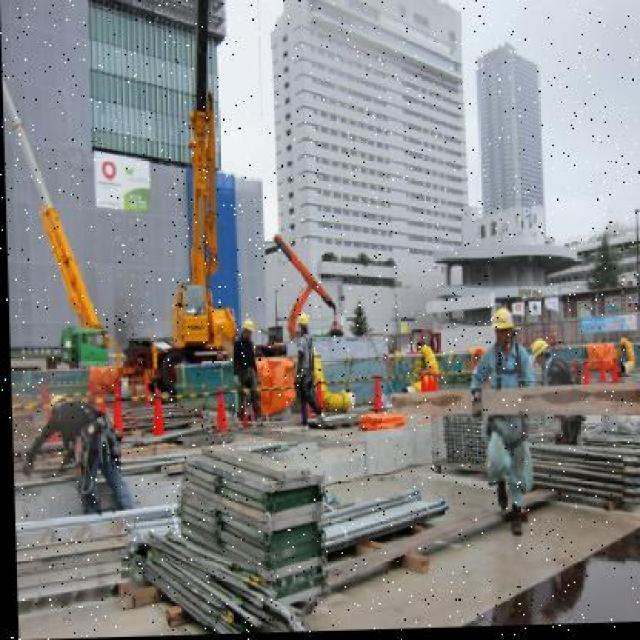helmet: (488, 308, 516, 346)
